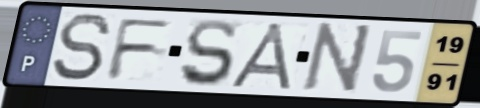5: (369, 28, 425, 94)
A: (225, 21, 298, 92)
F: (103, 17, 176, 82)
N: (299, 21, 376, 97)
S: (50, 12, 115, 84), (178, 17, 239, 89)
